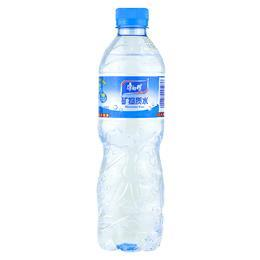amwater: (92, 5, 174, 252)
